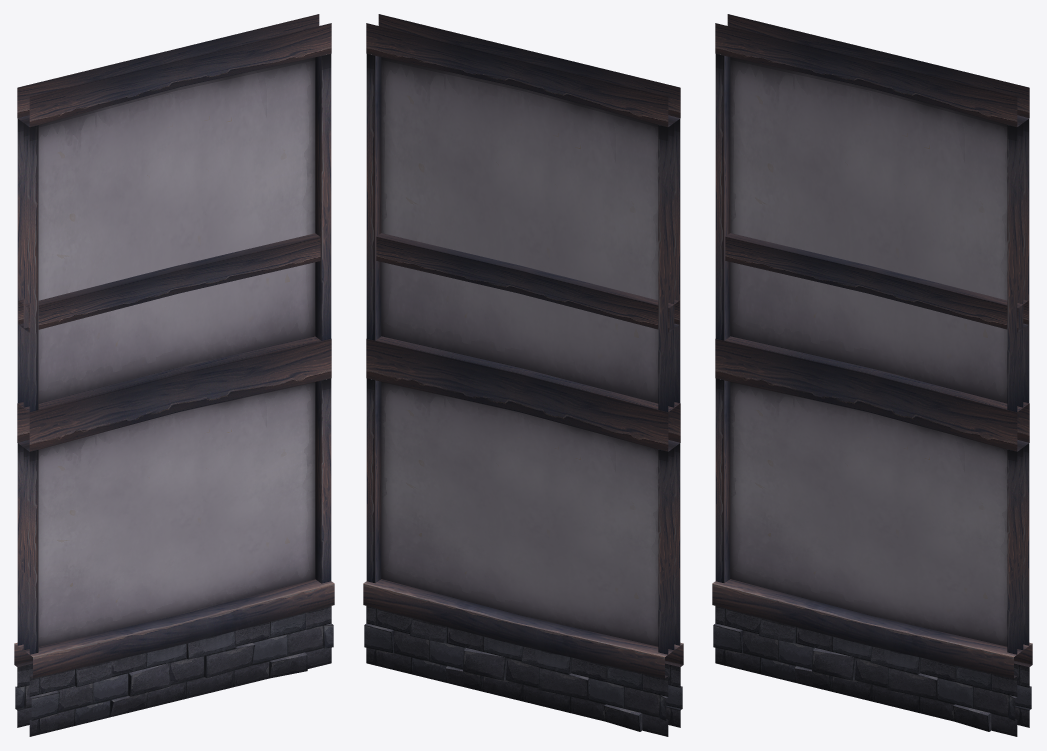
Rendered from Wall_2sided_detailed_2Floors.fbx.
3 views of the same model, side by side, from view 1: azimuth 30°, elevation 25°; view 2: azimuth 150°, elevation 25°; view 3: azimuth 330°, elevation 25° (orthographic).
Visible parts, largest first — view 1: Wall_2sided_detailed_2Floors; view 2: Wall_2sided_detailed_2Floors; view 3: Wall_2sided_detailed_2Floors.
Boxes of the visible parts, x1,y1,x2,y2 form: Wall_2sided_detailed_2Floors: [14, 14, 334, 736]; Wall_2sided_detailed_2Floors: [363, 14, 683, 736]; Wall_2sided_detailed_2Floors: [712, 14, 1032, 736].
Bounding box in the file's own units: 0.6266 × 1.27 × 0.0678.
